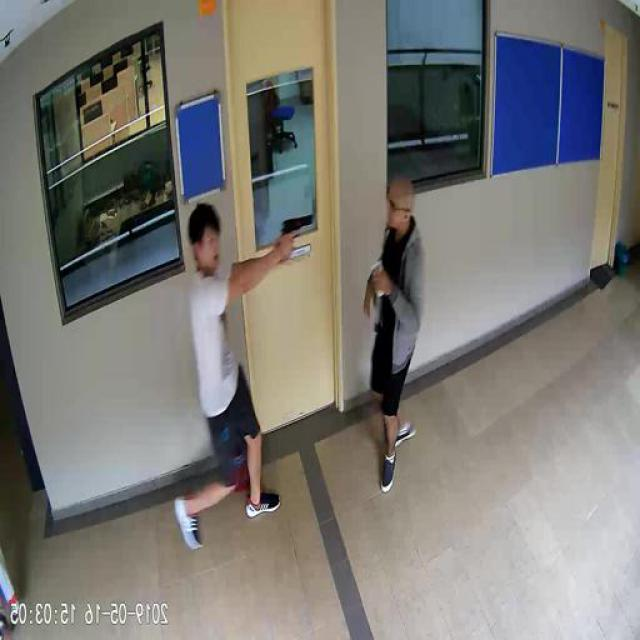Gun: (284, 211, 315, 250)
